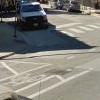crosswalk: (59, 22, 99, 37)
